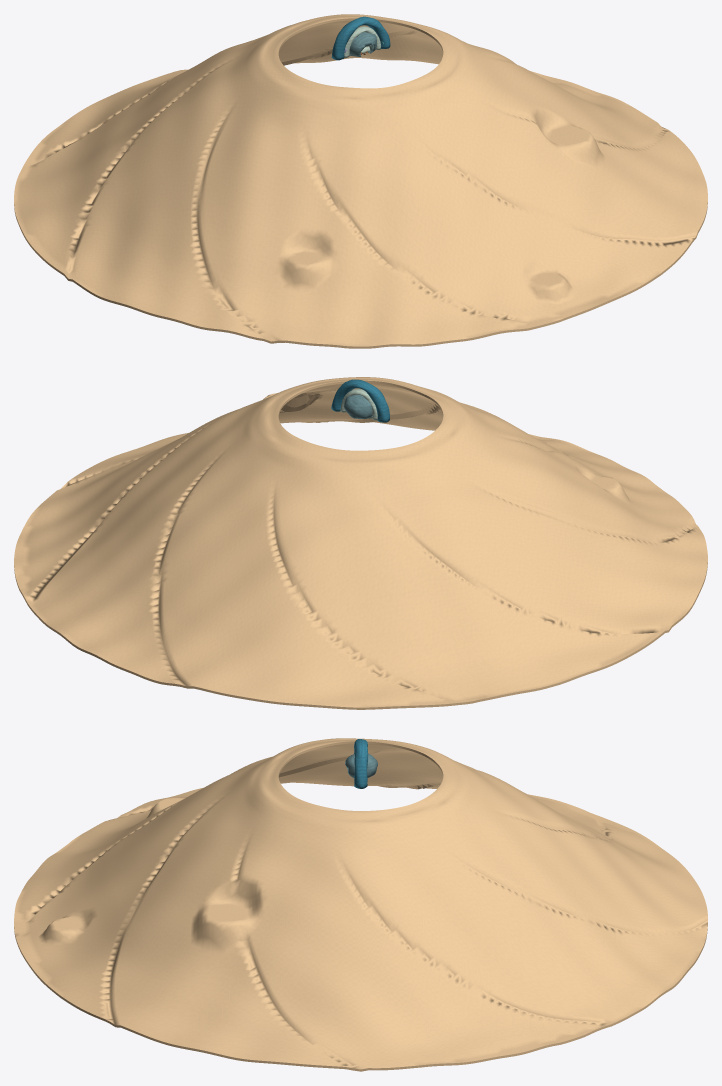
File: SuckTheSea_Expedition.fbx
3 views of the same model, one above another, from view 1: azimuth 30°, elevation 25°; view 2: azimuth 150°, elevation 25°; view 3: azimuth 270°, elevation 25° (orthographic).
Parts seen in each view (by area): view 1: Seabed__B4_S04, Seabed__B4_S03, Seabed__B5_S04, Seabed__B5_S03, Seabed__B3_S04, Seabed__B4_S02, Seabed__B3_S03, Seabed__B4_S05, Seabed__B5_S05, Seabed__B5_S02, Seabed__B3_S02, Seabed__B3_S05 (+35 smaller); view 2: Seabed__B4_S07, Seabed__B4_S08, Seabed__B5_S08, Seabed__B5_S07, Seabed__B3_S07, Seabed__B4_S09, Seabed__B4_S06, Seabed__B3_S08, Seabed__B5_S09, Seabed__B5_S06, Seabed__B3_S06, Seabed__B3_S09 (+37 smaller); view 3: Seabed__B4_S00, Seabed__B4_S11, Seabed__B5_S00, Seabed__B5_S11, Seabed__B4_S10, Seabed__B4_S01, Seabed__B3_S00, Seabed__B5_S01, Seabed__B3_S11, Seabed__B5_S10, Seabed__B3_S10, Seabed__B3_S01 (+36 smaller).
Part boxes in pixels (left/top/right/bottom): Seabed__B4_S04: left=214, top=228, right=360, bottom=305; Seabed__B4_S03: left=361, top=238, right=507, bottom=305; Seabed__B5_S04: left=187, top=285, right=360, bottom=348; Seabed__B5_S03: left=361, top=290, right=534, bottom=348; Seabed__B3_S04: left=240, top=174, right=360, bottom=253; Seabed__B4_S02: left=482, top=196, right=615, bottom=290; Seabed__B3_S03: left=361, top=180, right=481, bottom=251; Seabed__B4_S05: left=106, top=200, right=240, bottom=287; Seabed__B5_S05: left=60, top=247, right=213, bottom=324; Seabed__B5_S02: left=508, top=243, right=661, bottom=328; Seabed__B3_S02: left=455, top=150, right=569, bottom=238; Seabed__B3_S05: left=152, top=151, right=266, bottom=227; Seabed__B4_S07: left=361, top=598, right=507, bottom=671; Seabed__B4_S08: left=214, top=593, right=360, bottom=667; Seabed__B5_S08: left=187, top=649, right=360, bottom=709; Seabed__B5_S07: left=361, top=652, right=534, bottom=709; Seabed__B3_S07: left=361, top=542, right=480, bottom=612; Seabed__B4_S09: left=106, top=560, right=240, bottom=648; Seabed__B4_S06: left=481, top=562, right=615, bottom=652; Seabed__B3_S08: left=241, top=539, right=360, bottom=611; Seabed__B5_S09: left=60, top=604, right=213, bottom=688; Seabed__B5_S06: left=508, top=610, right=661, bottom=691; Seabed__B3_S06: left=455, top=514, right=569, bottom=598; Seabed__B3_S09: left=152, top=513, right=266, bottom=593; Seabed__B4_S00: left=214, top=956, right=360, bottom=1025; Seabed__B4_S11: left=361, top=964, right=507, bottom=1027; Seabed__B5_S00: left=187, top=1009, right=360, bottom=1071; Seabed__B5_S11: left=361, top=1015, right=534, bottom=1071; Seabed__B4_S10: left=481, top=921, right=615, bottom=1014; Seabed__B4_S01: left=106, top=919, right=240, bottom=1009; Seabed__B3_S00: left=241, top=900, right=360, bottom=968; Seabed__B5_S01: left=60, top=965, right=213, bottom=1049; Seabed__B3_S11: left=361, top=906, right=481, bottom=971; Seabed__B5_S10: left=508, top=965, right=661, bottom=1051; Seabed__B3_S10: left=455, top=873, right=569, bottom=964; Seabed__B3_S01: left=152, top=872, right=266, bottom=956.
Bounding box in the file's own units: 708 × 206 × 708.
1 material, 1 textured.
